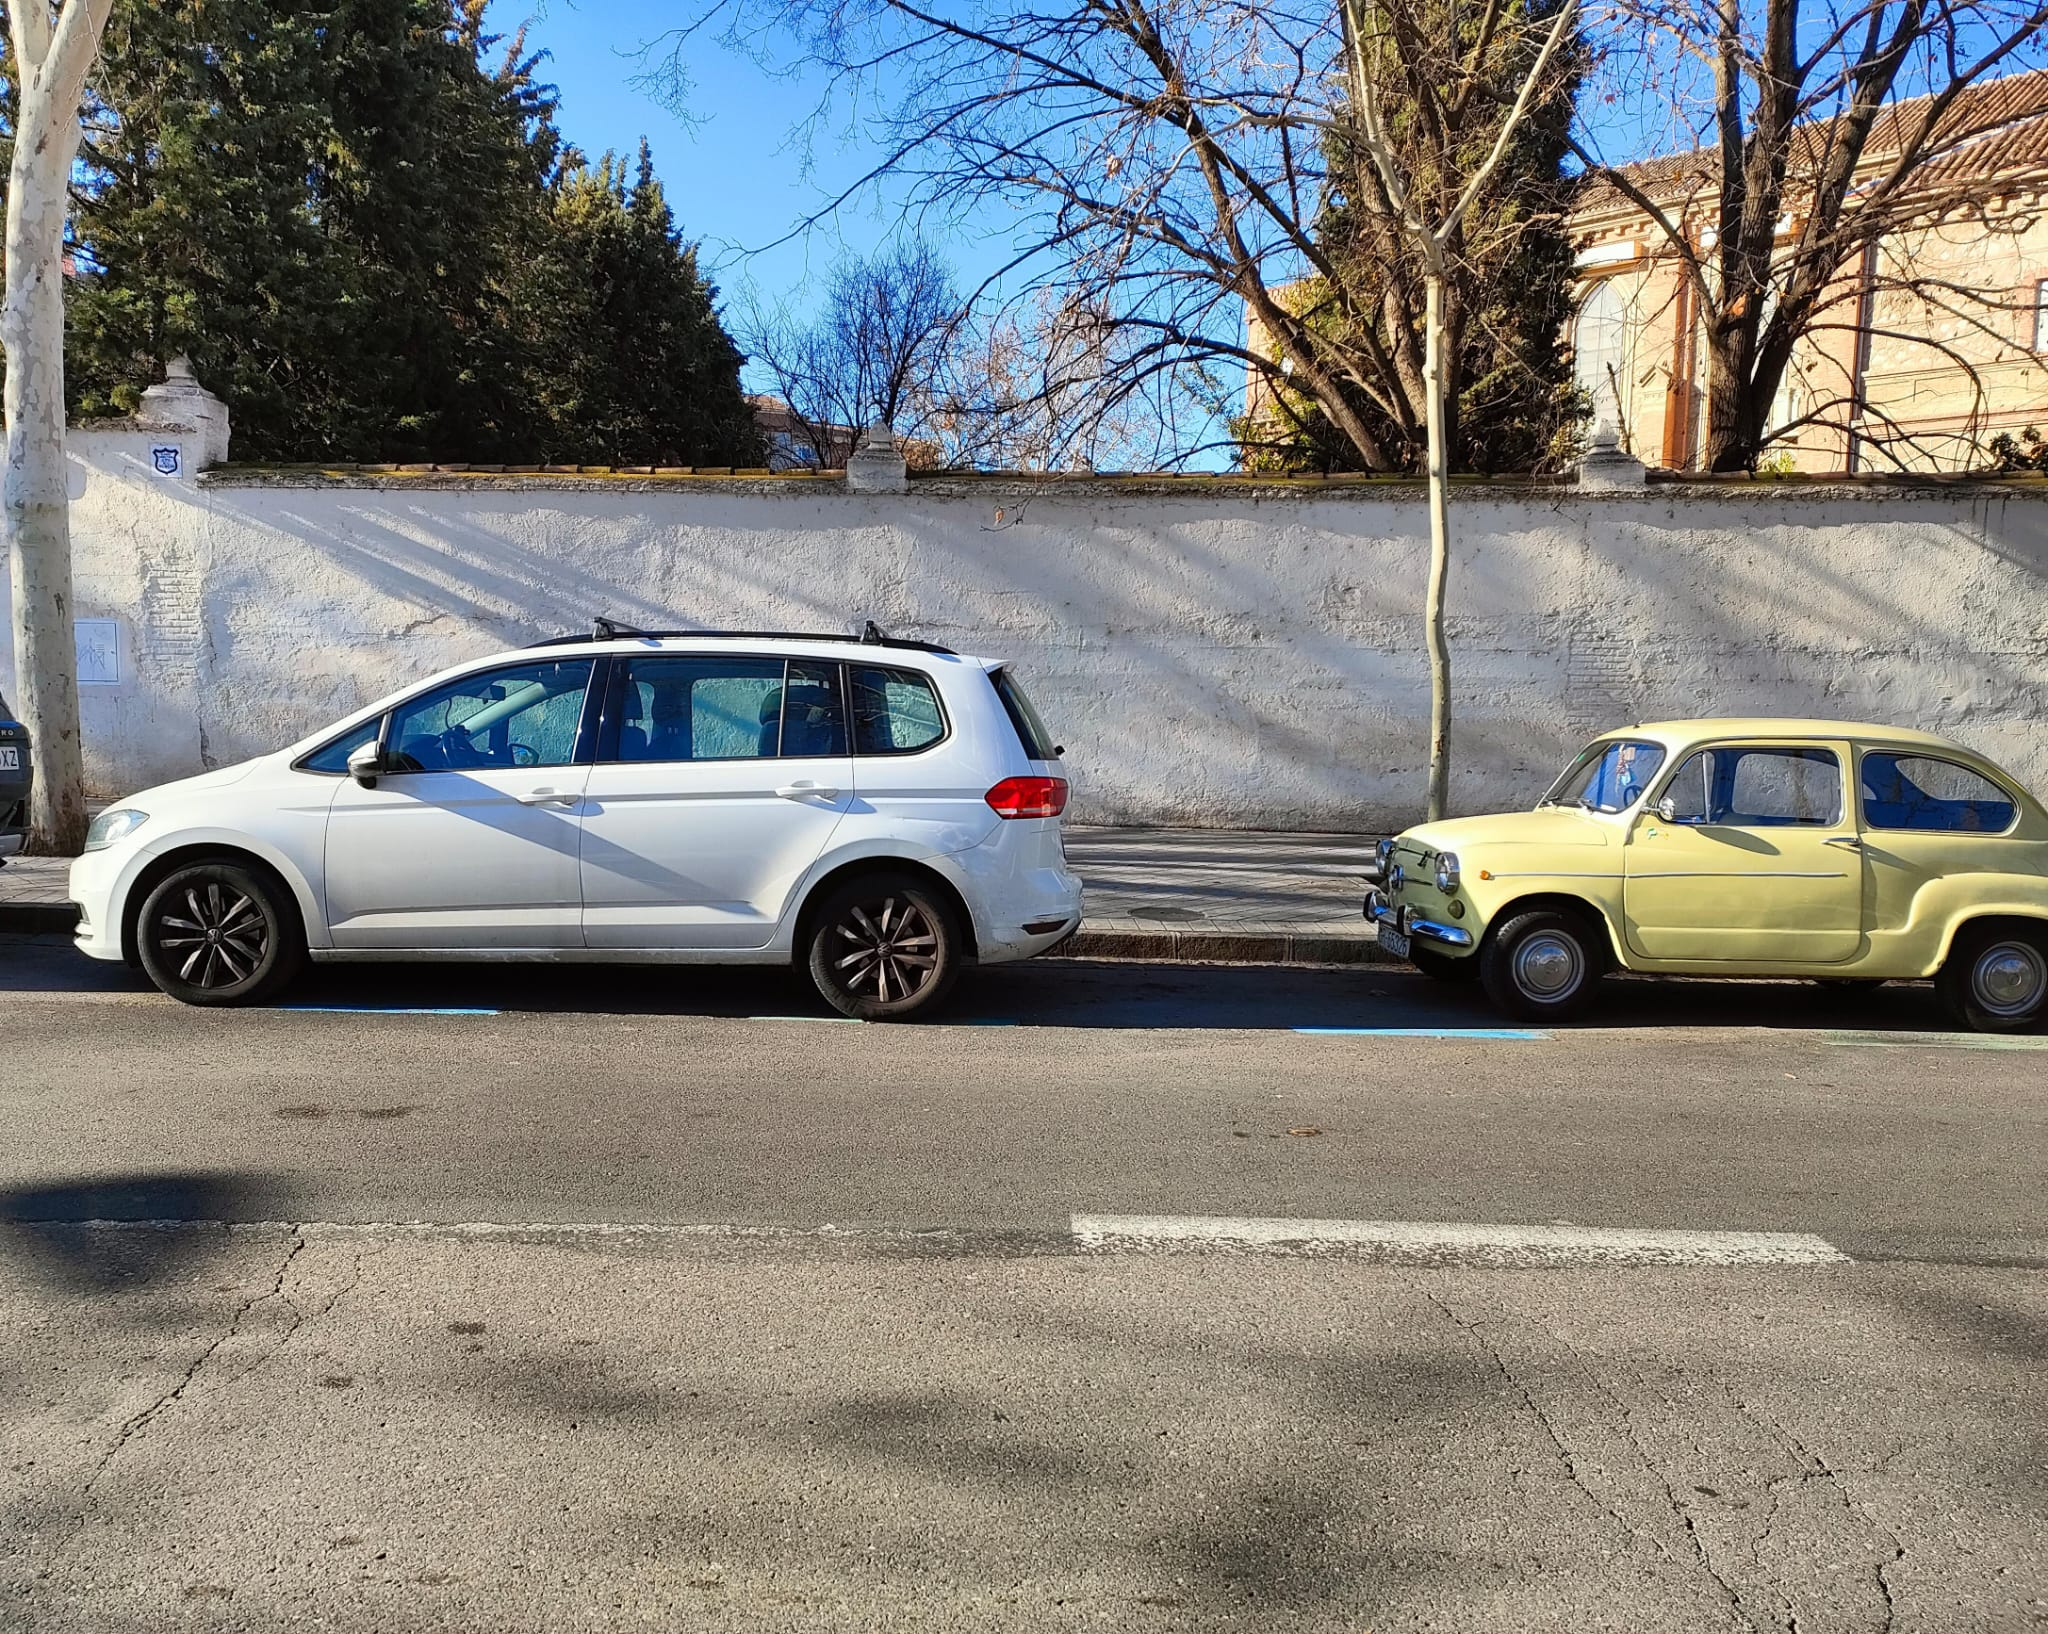car: (42, 577, 1102, 1014), (1368, 670, 2045, 1029)
